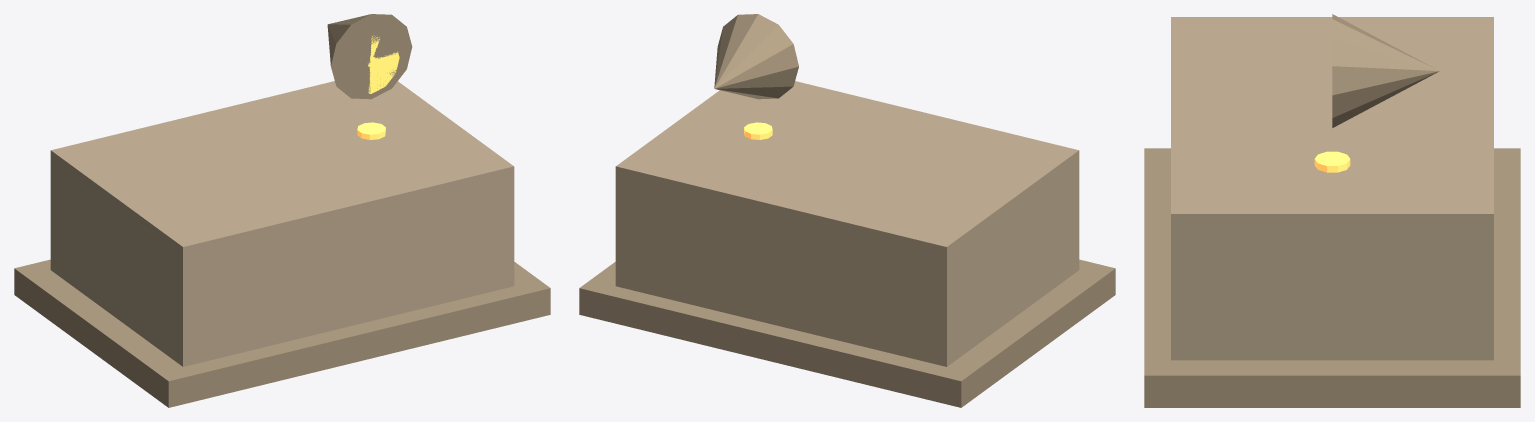
The model's file is mold.glb.
3 views of the same model, side by side, from view 1: azimuth 30°, elevation 25°; view 2: azimuth 150°, elevation 25°; view 3: azimuth 270°, elevation 25° (orthographic). The views are drawn at different scales.
Parts seen in each view (by area): view 1: Mold, Bronze; view 2: Mold; view 3: Mold, Bronze.
Boxes of the visible parts, left/top/right/bottom form: Mold: left=14, top=14, right=550, bottom=407; Bronze: left=357, top=35, right=399, bottom=139; Mold: left=579, top=14, right=1115, bottom=407; Mold: left=1144, top=14, right=1520, bottom=407; Bronze: left=1314, top=151, right=1350, bottom=172.
Size of the model in its own units: 1.5 by 1.01 by 1.05.
